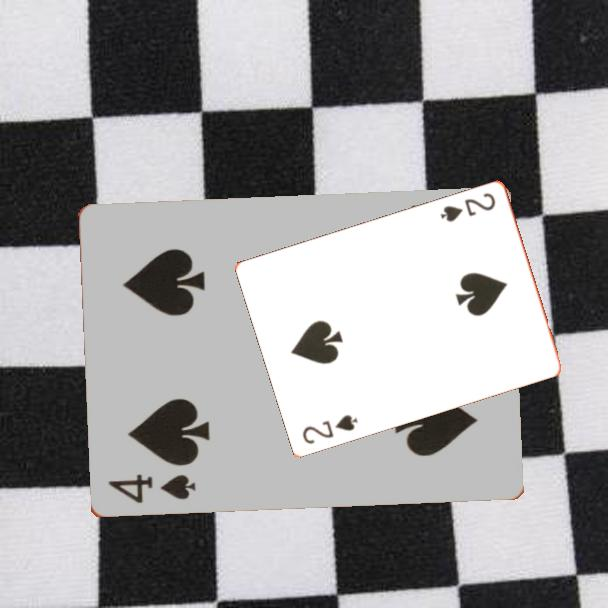s02: (437, 189, 499, 224), (299, 411, 361, 446)
s04: (105, 471, 198, 507)
